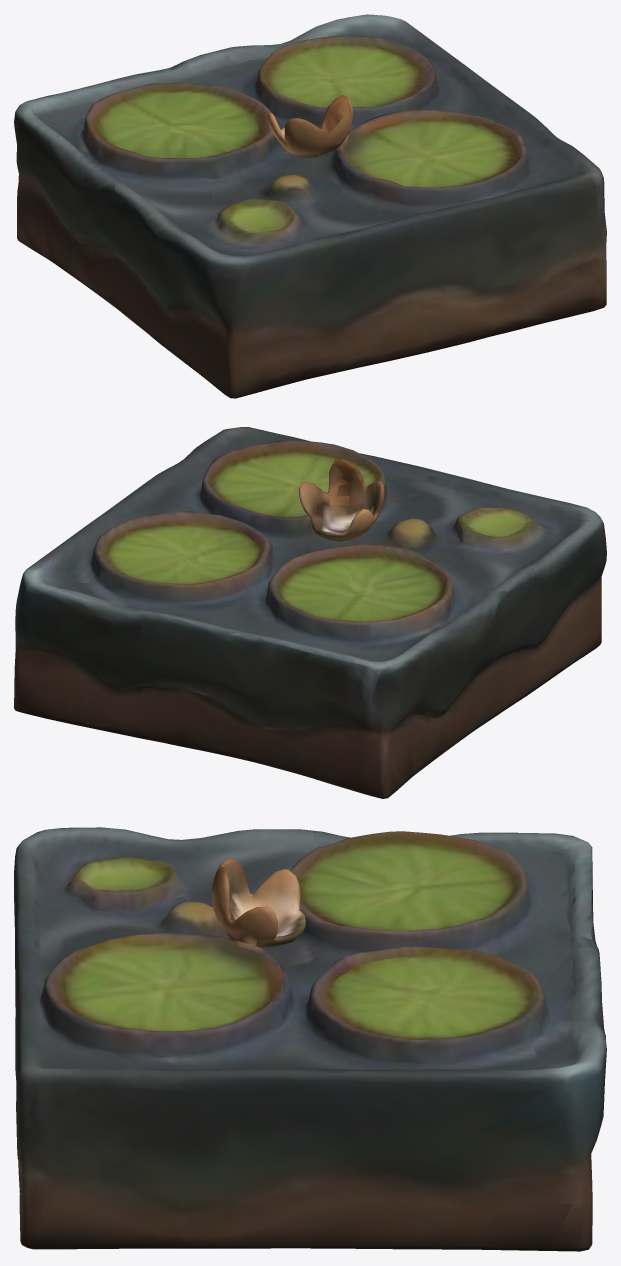
File: t14_agua_vitorias_regias.glb
3 views of the same model, one above another, from view 1: azimuth 30°, elevation 25°; view 2: azimuth 150°, elevation 25°; view 3: azimuth 270°, elevation 25° (orthographic). The views are drawn at different scales.
Visible parts, largest first — view 1: t14_agua_vitorias_regias; view 2: t14_agua_vitorias_regias; view 3: t14_agua_vitorias_regias.
Part boxes in pixels (x1=…): t14_agua_vitorias_regias: x1=14, y1=14, x2=606, y2=398; t14_agua_vitorias_regias: x1=14, y1=427, x2=606, y2=798; t14_agua_vitorias_regias: x1=14, y1=827, x2=606, y2=1251.
Size of the model in its own units: 0.997 by 0.4848 by 0.9921.
1 material, 1 textured.
